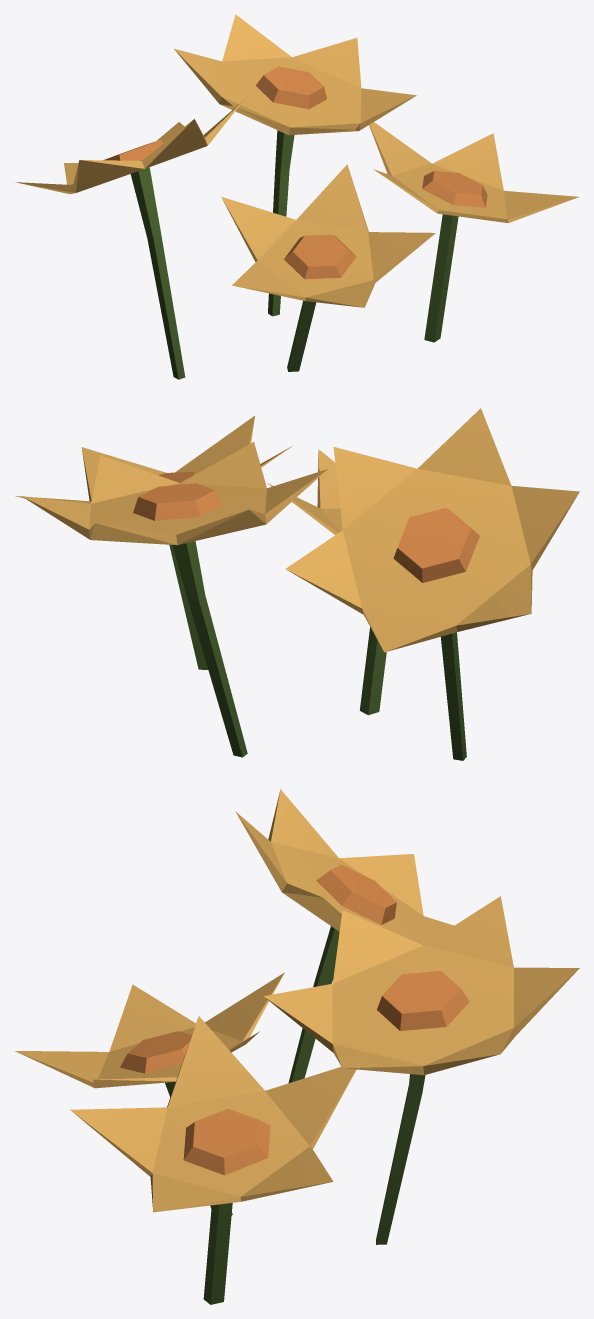
File: Env_Flower_Patch_01.obj
The picture shows the model from 3 angles, top to bottom: view 1: azimuth 30°, elevation 25°; view 2: azimuth 150°, elevation 25°; view 3: azimuth 270°, elevation 25°; orthographic projection. The views are drawn at different scales.
Parts seen in each view (by area): view 1: Env_Flower_Patch_01; view 2: Env_Flower_Patch_01; view 3: Env_Flower_Patch_01.
Boxes of the visible parts, x1=… form: Env_Flower_Patch_01: x1=14, y1=14, x2=578, y2=379; Env_Flower_Patch_01: x1=15, y1=408, x2=579, y2=760; Env_Flower_Patch_01: x1=15, y1=789, x2=579, y2=1304.
Size of the model in its own units: 0.6116 by 0.3405 by 0.5043.
Materials: 1 (1 with a texture image).
